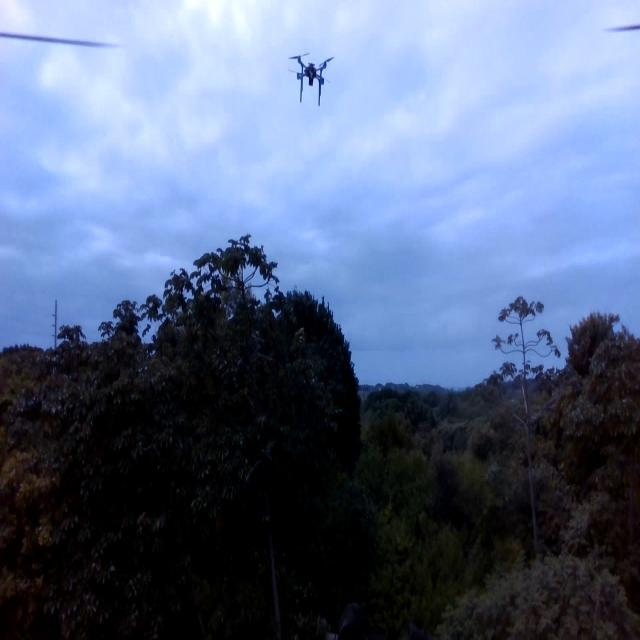-uav-: (284, 43, 338, 112)
